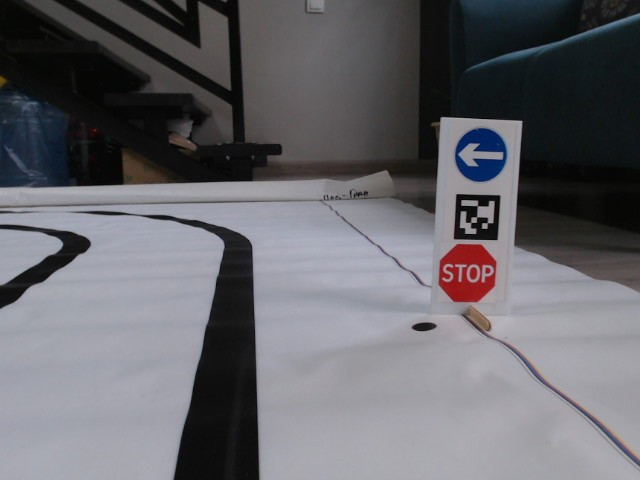Stop: (437, 239, 497, 301)
